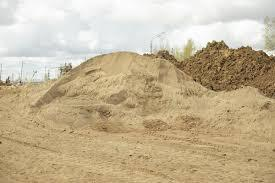sand: (104, 82, 123, 101), (163, 84, 183, 101), (106, 59, 128, 73), (197, 103, 213, 116)
